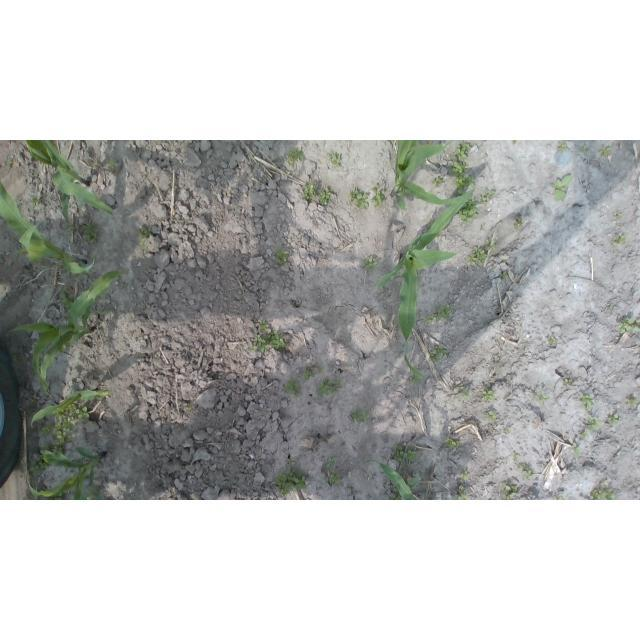Maize: (372, 188, 476, 381), (10, 269, 129, 392), (1, 179, 96, 277), (23, 140, 116, 224), (392, 141, 476, 211), (26, 447, 109, 500), (30, 389, 117, 431), (362, 456, 421, 499)
Weeds: (448, 141, 496, 223), (26, 441, 71, 480), (54, 402, 91, 446), (272, 461, 308, 495), (571, 416, 601, 455), (251, 320, 284, 352), (322, 457, 342, 488), (425, 306, 455, 324), (553, 173, 571, 201), (392, 443, 416, 464), (455, 471, 471, 500), (301, 181, 321, 204), (349, 187, 369, 210), (316, 378, 340, 396), (619, 314, 639, 335), (585, 486, 617, 499), (58, 287, 76, 310), (83, 223, 101, 246), (296, 366, 320, 382), (449, 386, 473, 401), (282, 378, 303, 394), (286, 148, 306, 164), (500, 482, 520, 498), (371, 183, 384, 206), (429, 346, 447, 362), (319, 188, 335, 205), (28, 192, 45, 208), (273, 248, 289, 264), (470, 247, 484, 265), (579, 396, 595, 411), (431, 176, 446, 192), (105, 161, 121, 176), (330, 150, 343, 167), (349, 411, 368, 422), (140, 226, 149, 248), (600, 143, 613, 157), (607, 413, 621, 426), (614, 232, 627, 245), (521, 465, 534, 478), (483, 390, 496, 402), (366, 259, 377, 272), (446, 439, 457, 452), (482, 242, 493, 253), (558, 141, 569, 150), (630, 399, 639, 410), (538, 393, 547, 404), (616, 208, 624, 220), (548, 335, 557, 344), (486, 410, 495, 418), (515, 219, 522, 228), (582, 146, 590, 152)
